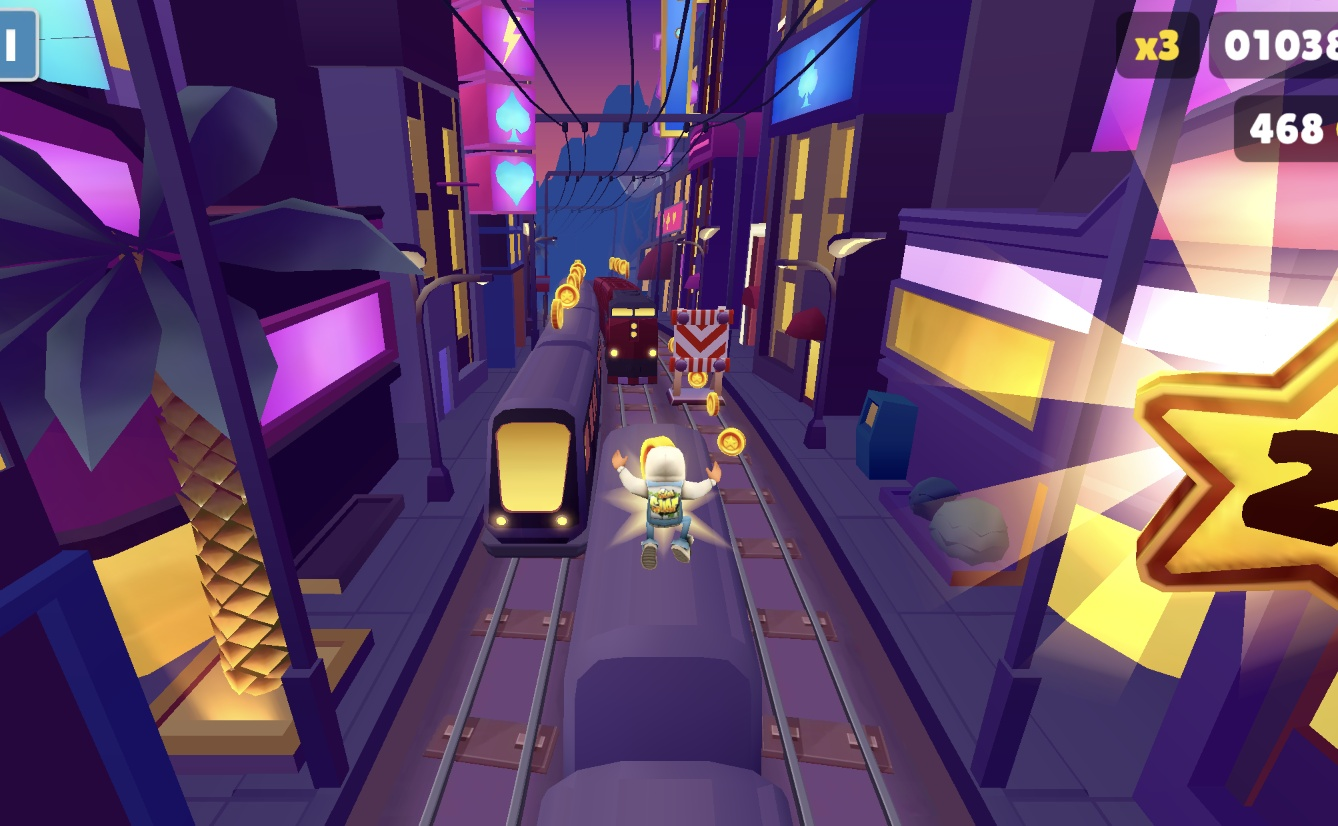overhead_barrier: (674, 304, 734, 399)
train: (577, 429, 841, 826), (499, 287, 592, 554), (602, 279, 664, 382)
